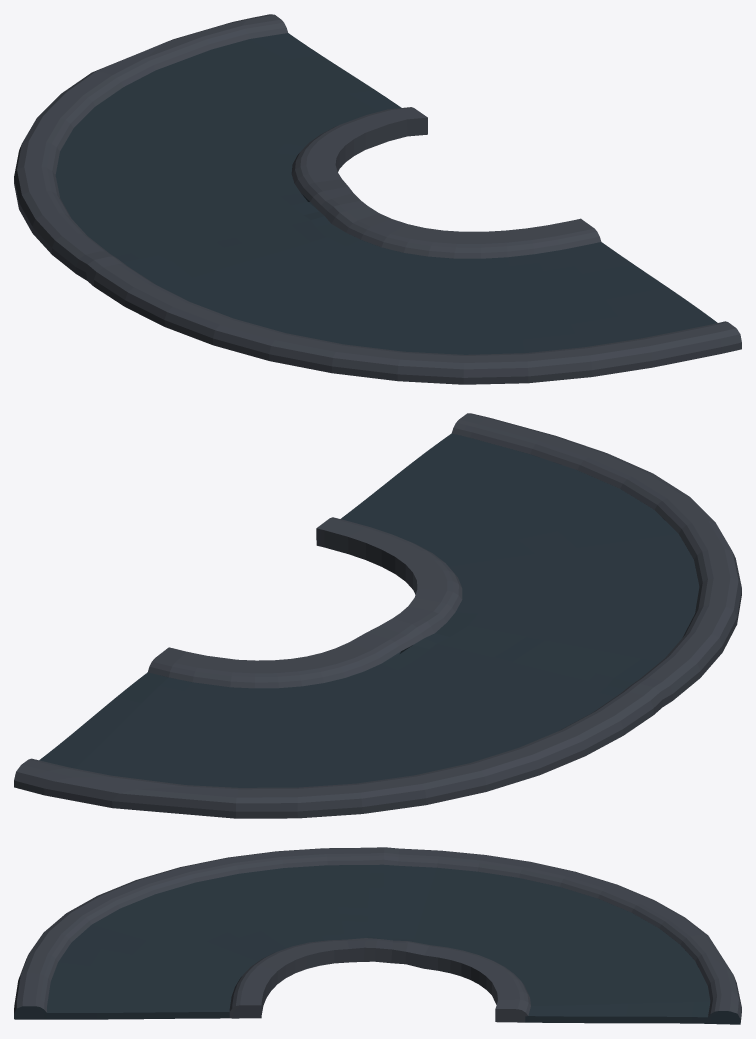
The model's file is U-Turn.fbx.
3 renders of one model, top to bottom at view 1: azimuth 30°, elevation 25°; view 2: azimuth 150°, elevation 25°; view 3: azimuth 270°, elevation 25°, orthographic. The views are drawn at different scales.
Parts seen in each view (by area): view 1: UTurn; view 2: UTurn; view 3: UTurn.
Part boxes in pixels (left/top/right/bottom): UTurn: left=14, top=14, right=741, bottom=384; UTurn: left=14, top=413, right=741, bottom=818; UTurn: left=14, top=847, right=741, bottom=1024.
Size of the model in its own units: 313 by 21.97 by 594.
